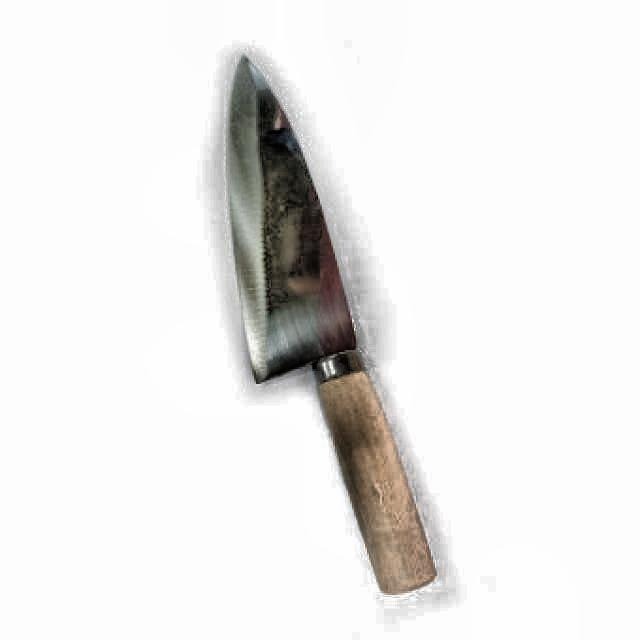knife: (224, 54, 441, 592)
